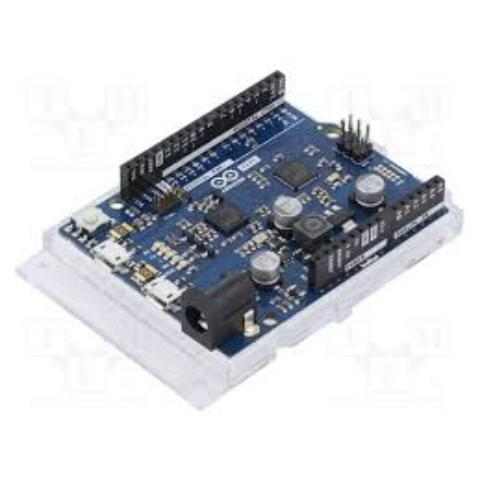Arduino-Zero: (19, 68, 474, 402)
